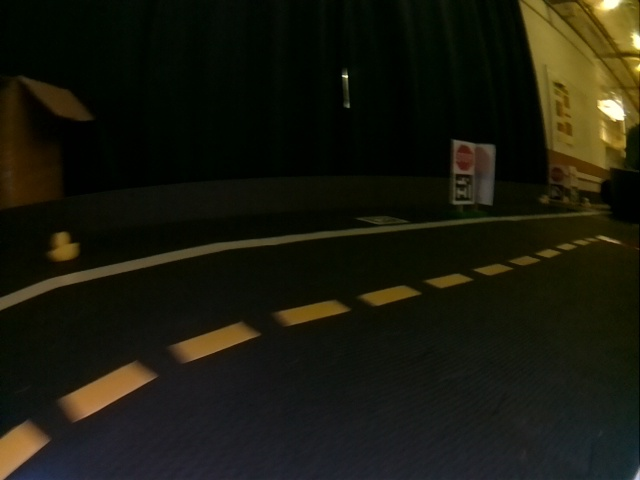Duckie: (50, 232, 79, 261)
QR code: (453, 173, 474, 204), (358, 215, 408, 225)
Stop sign: (455, 141, 473, 169)
